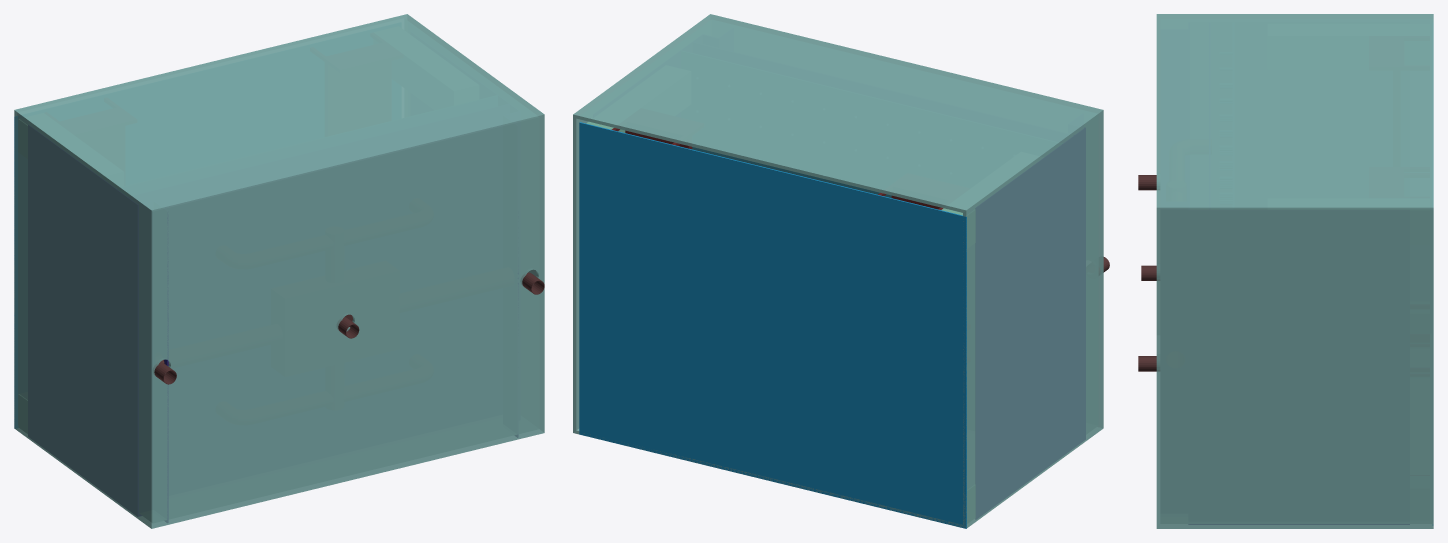
The model's file is duct-system.obj.
3 views of the same model, side by side, from view 1: azimuth 30°, elevation 25°; view 2: azimuth 150°, elevation 25°; view 3: azimuth 270°, elevation 25° (orthographic).
Parts seen in each view (by area): view 1: box, ventwalls, floor, pipes; view 2: floor, box, ventwalls, pillars, ventceil; view 3: box, pipes.
Part boxes in pixels (bbox=[...]): box: bbox=[14, 14, 544, 528]; ventwalls: bbox=[28, 125, 517, 522]; floor: bbox=[14, 116, 17, 428]; pipes: bbox=[153, 272, 544, 384]; floor: bbox=[579, 122, 966, 528]; box: bbox=[573, 14, 1103, 528]; ventwalls: bbox=[976, 128, 1085, 518]; pillars: bbox=[586, 121, 974, 523]; ventceil: bbox=[692, 147, 891, 197]; box: bbox=[1156, 14, 1433, 528]; pipes: bbox=[1138, 175, 1159, 371].
Bounding box in the file's own units: 6200 × 4800 × 4000.
